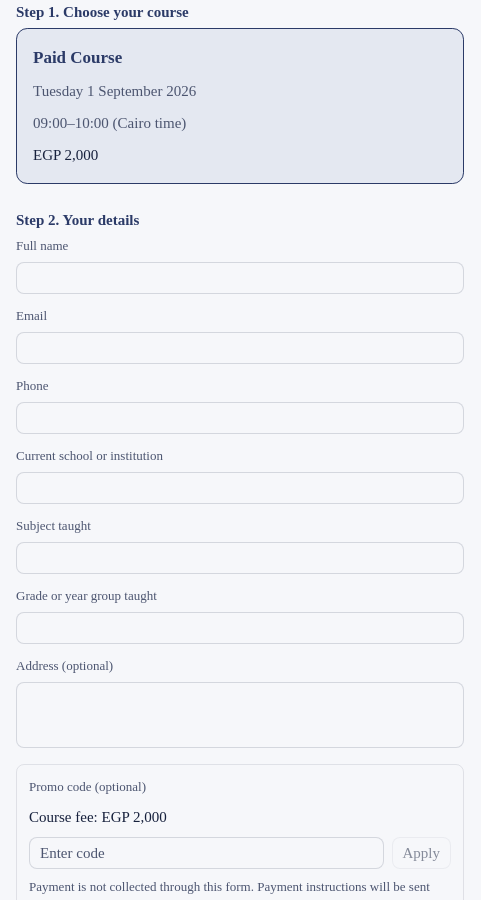
Test: RegistrationExperience — promo code field › disables Apply until a code is typed
Check: the button "Apply" is disabled, box [392,837,451,869]
In the field labelled "Promo code (optional)": (206, 853) [29,837,384,869], type "EDU20"
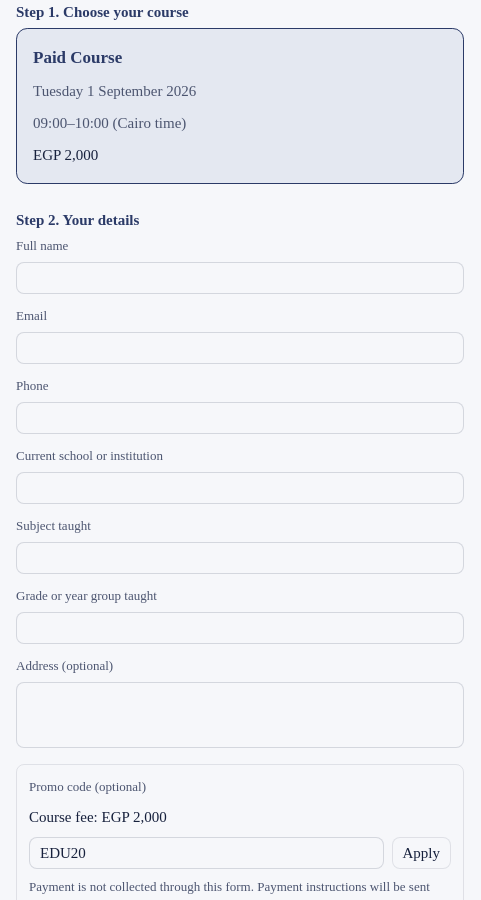
Check: the button "Apply" is enabled, box [392,837,451,869]
